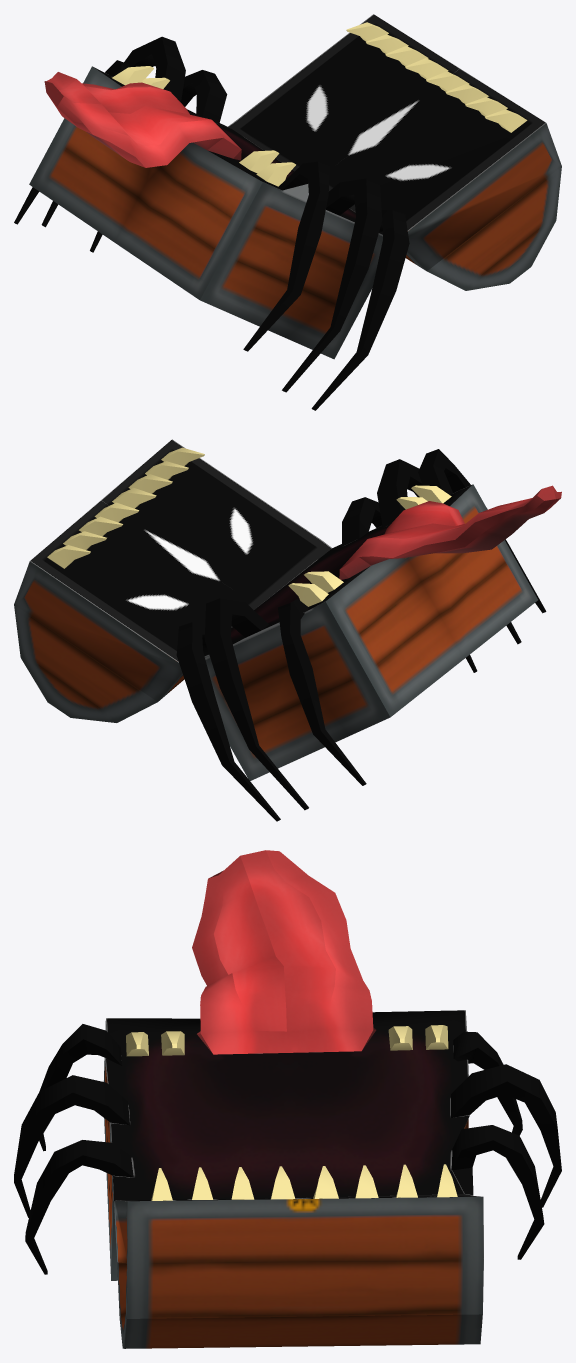
The model's file is cofrearana_000031.obj.
3 views of the same model, one above another, from view 1: azimuth 30°, elevation 25°; view 2: azimuth 150°, elevation 25°; view 3: azimuth 270°, elevation 25° (orthographic). The views are drawn at different scales.
Parts seen in each view (by area): view 1: cofreArana:Mesh; view 2: cofreArana:Mesh; view 3: cofreArana:Mesh.
Boxes of the visible parts, bbox=[...] form: cofreArana:Mesh: bbox=[14, 14, 561, 410]; cofreArana:Mesh: bbox=[14, 439, 561, 821]; cofreArana:Mesh: bbox=[14, 850, 561, 1348].
Size of the model in its own units: 10.38 by 6.48 by 9.64.
